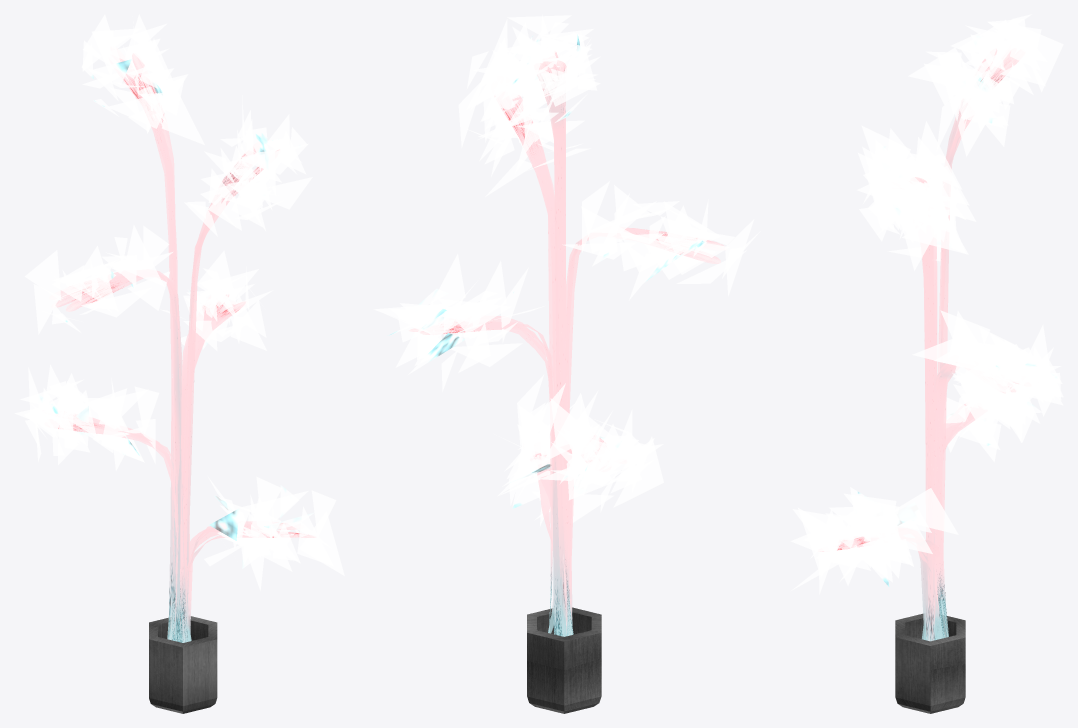
Rendered from propRoadsidePlant.glb.
The picture shows the model from 3 angles, left to right: view 1: azimuth 30°, elevation 25°; view 2: azimuth 150°, elevation 25°; view 3: azimuth 270°, elevation 25°; orthographic projection. The views are drawn at different scales.
Parts seen in each view (by area): view 1: Point.070_M_Tree_Leaves.003_0, Point.071_M_Tree.003_0, propRoadsidePlant; view 2: Point.070_M_Tree_Leaves.003_0, Point.071_M_Tree.003_0, propRoadsidePlant; view 3: Point.070_M_Tree_Leaves.003_0, Point.071_M_Tree.003_0, propRoadsidePlant.
Boxes of the visible parts, box(x1,y1,x2,y2) form: Point.070_M_Tree_Leaves.003_0: box(14, 14, 344, 590); Point.071_M_Tree.003_0: box(45, 47, 316, 642); propRoadsidePlant: box(149, 616, 217, 713); Point.070_M_Tree_Leaves.003_0: box(373, 14, 760, 526); Point.071_M_Tree.003_0: box(408, 51, 724, 636); propRoadsidePlant: box(527, 607, 601, 713); Point.070_M_Tree_Leaves.003_0: box(790, 14, 1063, 594); Point.071_M_Tree.003_0: box(818, 48, 1030, 641); propRoadsidePlant: box(895, 613, 965, 713).
Size of the model in its own units: 2.82 by 6.33 by 2.33.
Materials: 3 (3 with a texture image).
